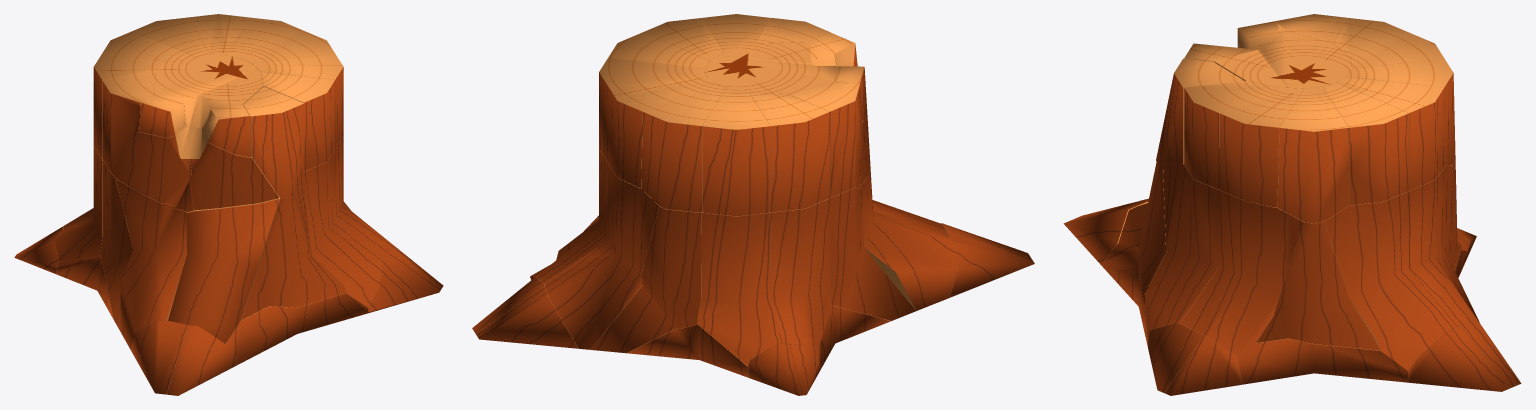
Rendered from Souche_Fracturee.fbx.
3 renders of one model, left to right at view 1: azimuth 30°, elevation 25°; view 2: azimuth 150°, elevation 25°; view 3: azimuth 270°, elevation 25°, orthographic. The views are drawn at different scales.
Visible parts, largest first — view 1: buche_cell.031, buche_cell.032, buche_cell.029, buche_cell.030, buche_cell.013, buche_cell.039, buche_cell.038, buche_cell.012, buche_cell.011, buche_cell.036, buche_cell.019, buche_cell.033 (+17 smaller); view 2: buche_cell.035, buche_cell.025, buche_cell.024, buche_cell.034, buche_cell.023, buche_cell.001, buche_cell.021, buche_cell.032, buche_cell.033, buche_cell.003, buche_cell.019, buche_cell.036 (+18 smaller); view 3: buche_cell.026, buche_cell.028, buche_cell.029, buche_cell.007, buche_cell.027, buche_cell.005, buche_cell.009, buche_cell.025, buche_cell.006, buche_cell.003, buche_cell.011, buche_cell.036 (+17 smaller).
Boxes of the visible parts, x1,y1,x2,y2 form: buche_cell.031: (168, 198, 280, 343); buche_cell.032: (116, 179, 187, 348); buche_cell.029: (265, 149, 382, 306); buche_cell.030: (241, 195, 345, 320); buche_cell.013: (243, 86, 304, 198); buche_cell.039: (110, 125, 194, 212); buche_cell.038: (189, 126, 279, 210); buche_cell.012: (225, 285, 368, 364); buche_cell.011: (261, 71, 335, 170); buche_cell.036: (154, 54, 256, 128); buche_cell.019: (102, 74, 155, 170); buche_cell.033: (100, 159, 133, 331); buche_cell.035: (697, 212, 781, 365); buche_cell.025: (544, 164, 659, 349); buche_cell.024: (590, 206, 701, 353); buche_cell.034: (770, 198, 831, 356); buche_cell.023: (702, 88, 770, 216); buche_cell.001: (641, 82, 725, 212); buche_cell.021: (749, 93, 829, 212); buche_cell.032: (857, 171, 957, 310); buche_cell.033: (830, 188, 915, 320); buche_cell.003: (608, 75, 712, 188); buche_cell.019: (787, 82, 862, 197); buche_cell.036: (705, 55, 837, 93); buche_cell.026: (1324, 191, 1456, 370); buche_cell.028: (1180, 190, 1304, 356); buche_cell.029: (1145, 164, 1218, 341); buche_cell.007: (1277, 86, 1348, 223); buche_cell.027: (1256, 221, 1380, 350); buche_cell.005: (1323, 82, 1409, 205); buche_cell.009: (1219, 87, 1303, 207); buche_cell.025: (1409, 165, 1479, 326); buche_cell.006: (1237, 338, 1407, 384); buche_cell.003: (1337, 77, 1445, 190); buche_cell.011: (1184, 81, 1278, 189); buche_cell.036: (1249, 31, 1352, 88).
Size of the model in its own units: 364 by 224 by 394.
Materials: 1 (1 with a texture image).
